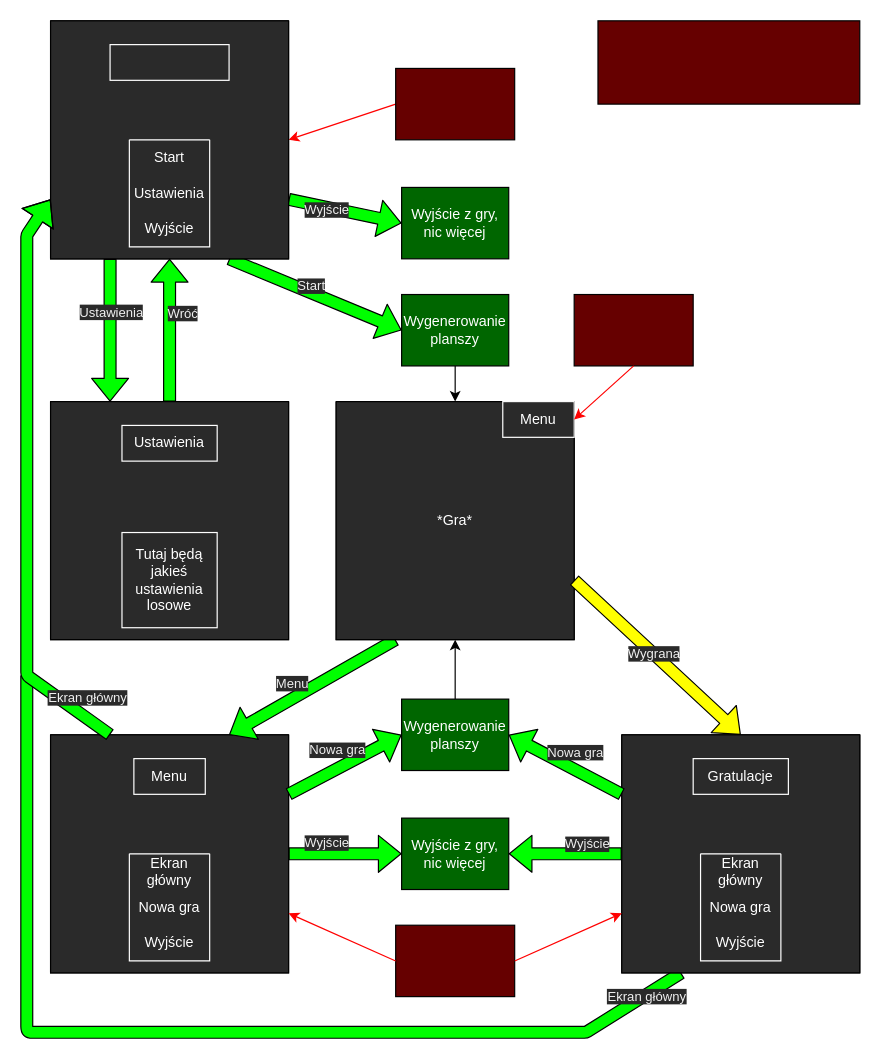
This 881x1059 diagram has some shape labels left out. The shapes that lost their labels are listed below. From the top down, each one's box as (x1, y1, x2, y2) in pixels, then its label:
(109, 43, 229, 80): Pipe (logo)
(597, 20, 860, 104): Opcje w GUI będą wybierane albo myszką albo klawiaturą (zależy co zakodujemy)
(394, 67, 515, 140): W tle będzie obracająca się plansza z losowymi ruchami
(573, 293, 693, 366): Menu aktywowane myszką lub ESC
(394, 924, 515, 997): W tle będzie aktualna plansza
